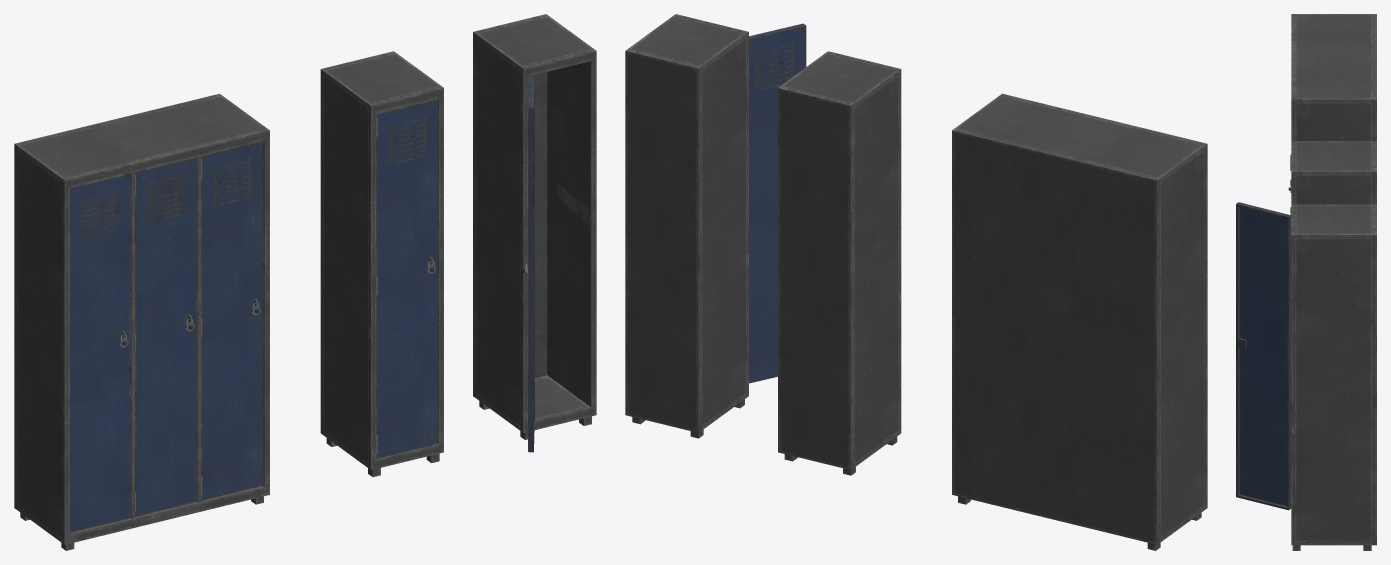
The model's file is Locker.fbx.
The picture shows the model from 3 angles, left to right: view 1: azimuth 30°, elevation 25°; view 2: azimuth 150°, elevation 25°; view 3: azimuth 270°, elevation 25°; orthographic projection. The views are drawn at different scales.
Parts seen in each view (by area): view 1: polySurface14, locker1, polySurface1; view 2: polySurface14, locker1, polySurface1; view 3: locker1, polySurface14, polySurface1.
Part boxes in pixels (left/top/right/bottom): polySurface14: left=14, top=93, right=269, bottom=550; locker1: left=473, top=14, right=596, bottom=452; polySurface1: left=320, top=51, right=443, bottom=476; polySurface14: left=952, top=93, right=1207, bottom=550; locker1: left=625, top=14, right=806, bottom=438; polySurface1: left=778, top=51, right=901, bottom=475; locker1: left=1236, top=202, right=1376, bottom=550; polySurface14: left=1288, top=14, right=1376, bottom=214; polySurface1: left=1290, top=141, right=1376, bottom=204.
Bounding box in the file's own units: 305 × 205 × 82.35.
1 material, 1 textured.
